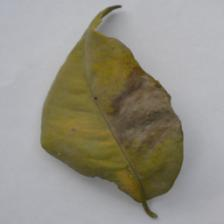black spot: (106, 63, 176, 150)
